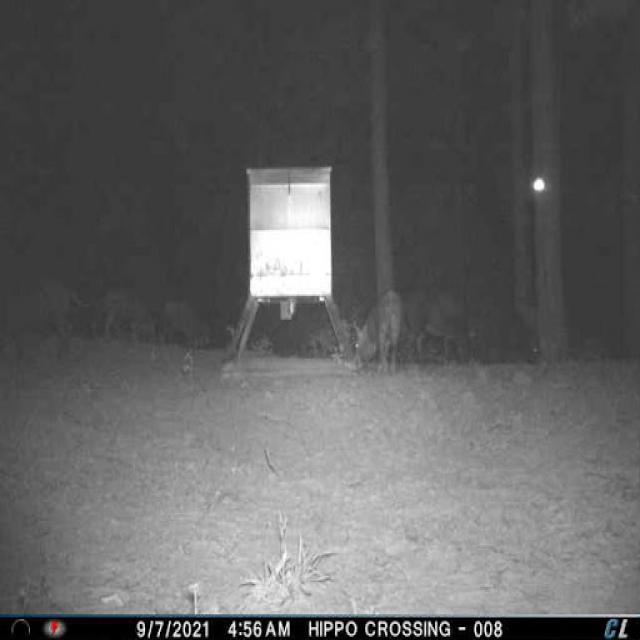wild boar: (7, 272, 92, 362), (405, 288, 477, 367), (483, 291, 545, 376), (345, 291, 407, 375), (99, 288, 162, 354), (175, 288, 223, 350)
